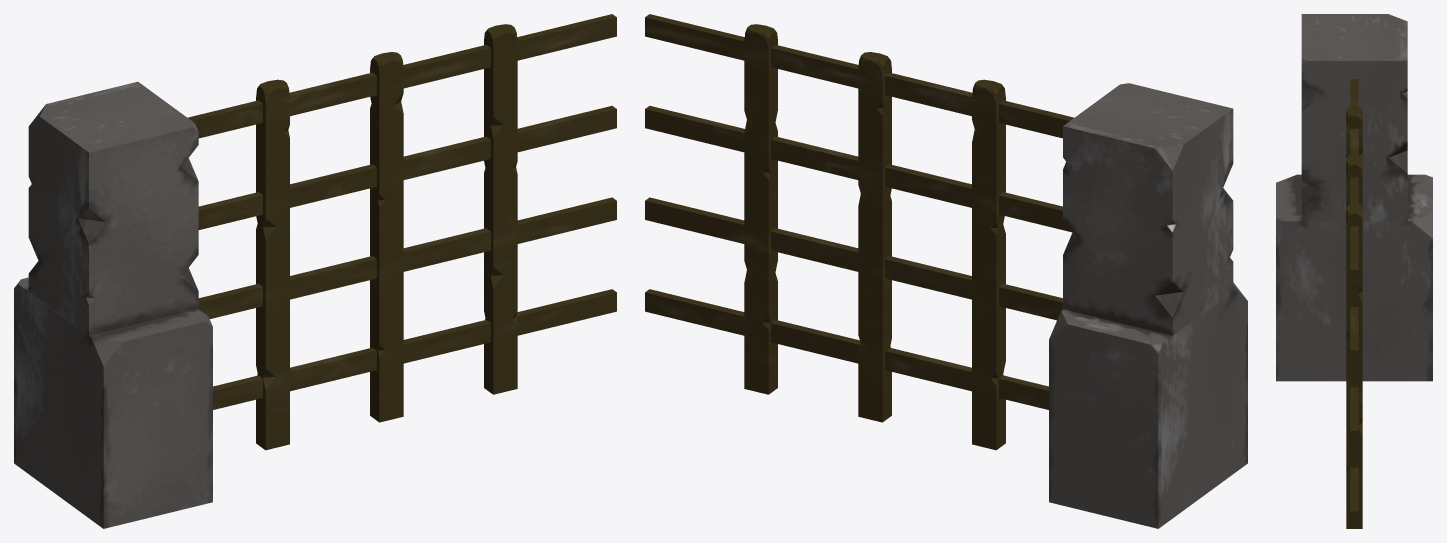
File: Pagar1.fbx
3 views of the same model, side by side, from view 1: azimuth 30°, elevation 25°; view 2: azimuth 150°, elevation 25°; view 3: azimuth 270°, elevation 25° (orthographic). The views are drawn at different scales.
Visible parts, largest first — view 1: Model 3.005; view 2: Model 3.005; view 3: Model 3.005.
Boxes of the visible parts, x1,y1,x2,y2 form: Model 3.005: (14, 14, 616, 528); Model 3.005: (645, 14, 1247, 528); Model 3.005: (1276, 14, 1432, 528).
Size of the model in its own units: 254 by 159 by 70.75.
